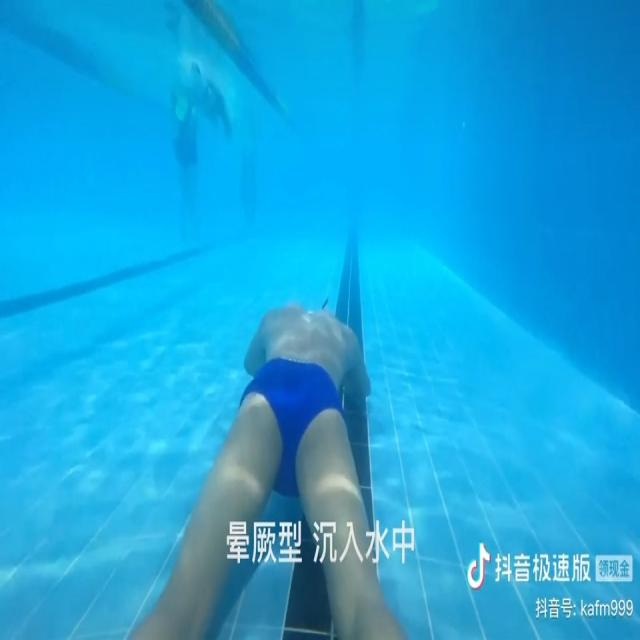Drowning: (125, 303, 411, 639)
